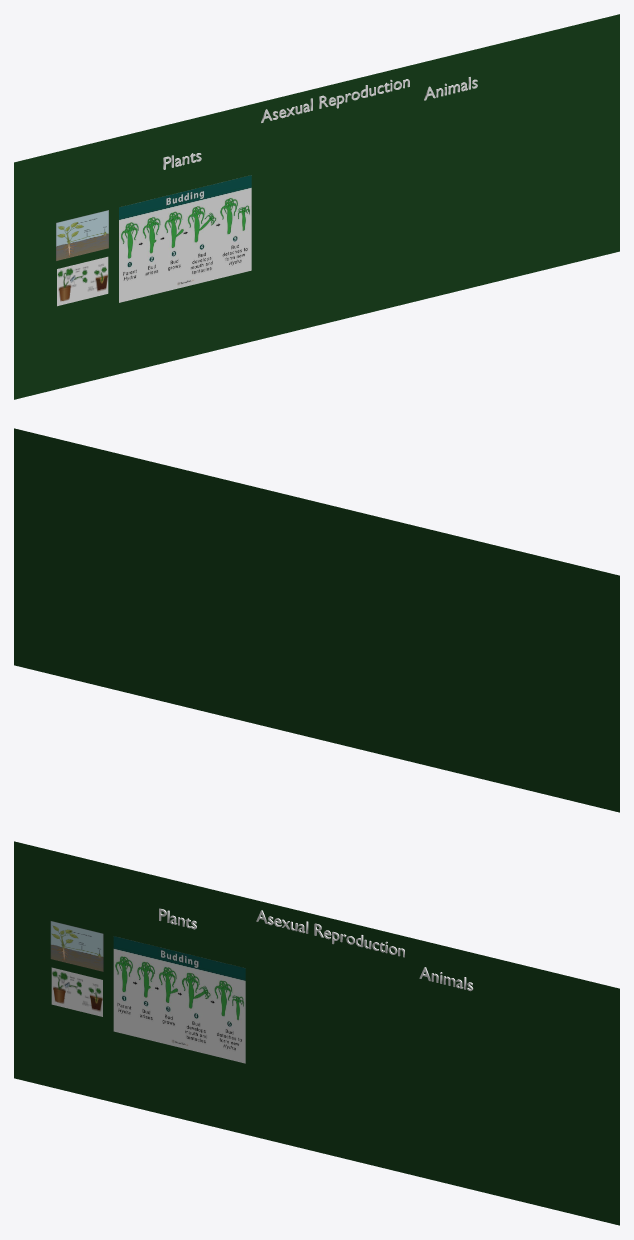
Rendered from budding.gltf.
The picture shows the model from 3 angles, top to bottom: view 1: azimuth 30°, elevation 25°; view 2: azimuth 150°, elevation 25°; view 3: azimuth 330°, elevation 25°; orthographic projection.
Parts seen in each view (by area): view 1: Plane.013, Plane, Plane.001, Plane.002, Text.001; view 2: Plane.013; view 3: Plane.013, Plane, Plane.001, Plane.002, Text.001.
Boxes of the visible parts, x1=… form: Plane.013: x1=14, y1=14, x2=619, y2=399; Plane: x1=119, y1=175, x2=251, y2=302; Plane.001: x1=56, y1=210, x2=108, y2=260; Plane.002: x1=57, y1=256, x2=108, y2=306; Text.001: x1=261, y1=79, x2=409, y2=122; Plane.013: x1=14, y1=428, x2=619, y2=812; Plane.013: x1=14, y1=841, x2=619, y2=1225; Plane: x1=113, y1=936, x2=245, y2=1063; Plane.001: x1=50, y1=921, x2=103, y2=971; Plane.002: x1=51, y1=967, x2=102, y2=1016; Text.001: x1=256, y1=910, x2=404, y2=957.
Bounding box in the file's own units: 15.94 × 5.96 × 0.1459.
Materials: 7 (3 with a texture image).
